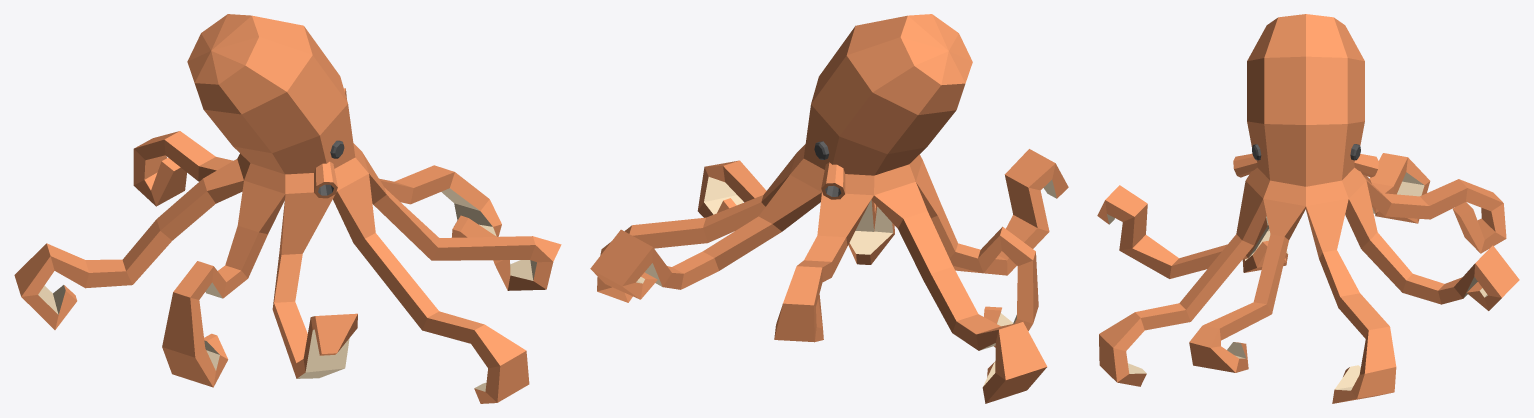
The model's file is Octopus_01.gltf.
The picture shows the model from 3 angles, left to right: view 1: azimuth 30°, elevation 25°; view 2: azimuth 150°, elevation 25°; view 3: azimuth 270°, elevation 25°; orthographic projection. The views are drawn at different scales.
Visible parts, largest first — view 1: node-0; view 2: node-0; view 3: node-0.
Part boxes in pixels (left/top/right/bottom): node-0: left=14, top=14, right=561, bottom=403; node-0: left=590, top=14, right=1068, bottom=403; node-0: left=1097, top=14, right=1519, bottom=403.
Size of the model in its own units: 12.03 by 8.69 by 10.71.
